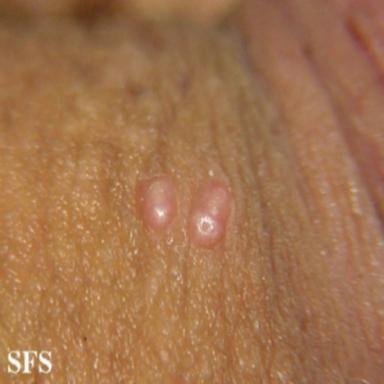Molluscum-Contagiosum: (189, 181, 230, 247), (136, 176, 175, 232)
